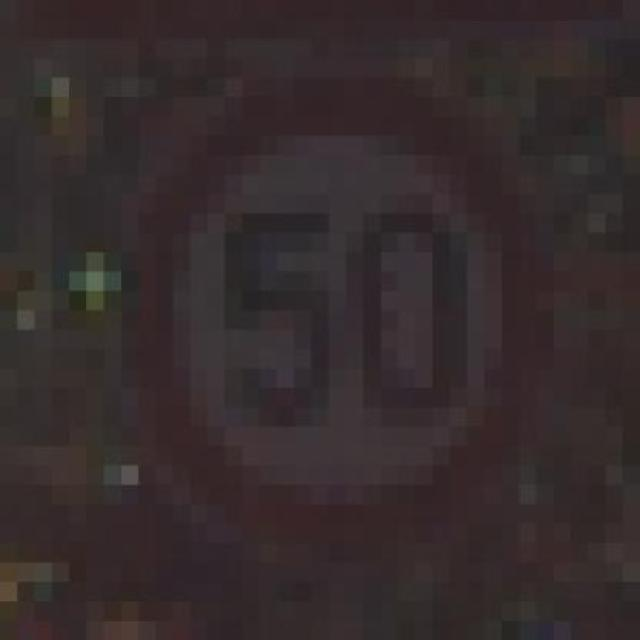Speed limit 50: (1, 1, 639, 639)
